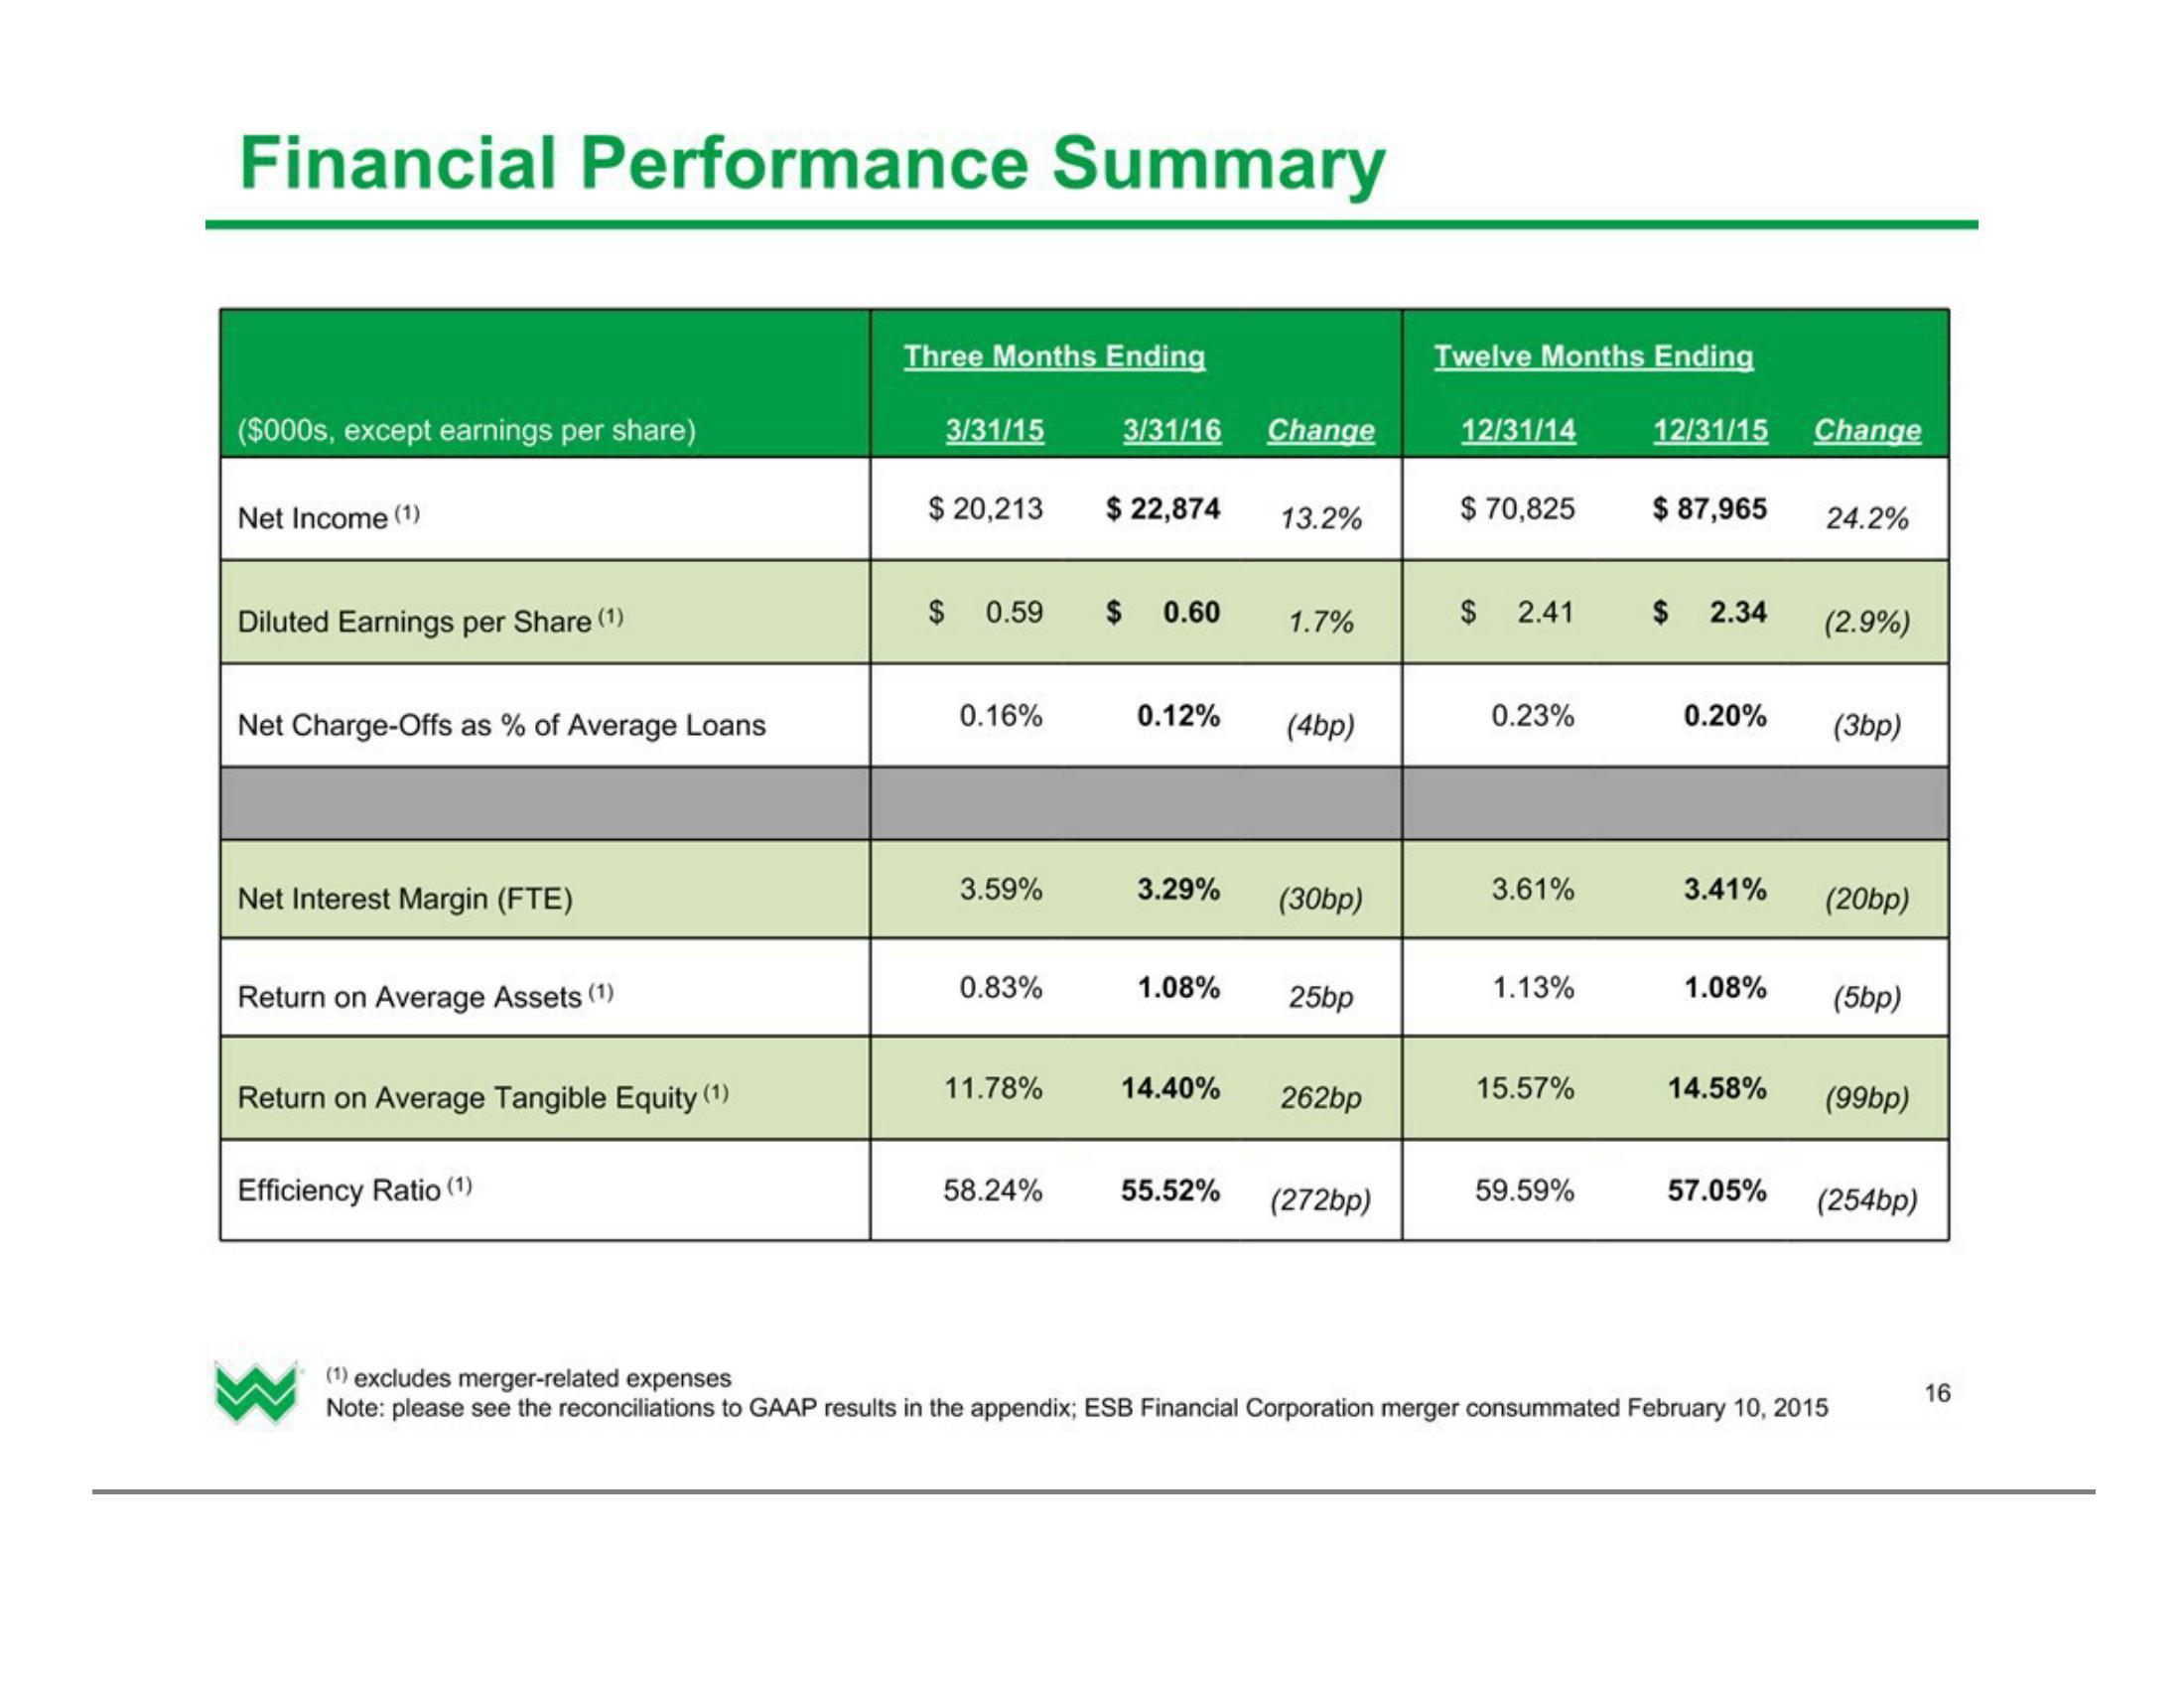table: (211, 301, 1959, 1248)
